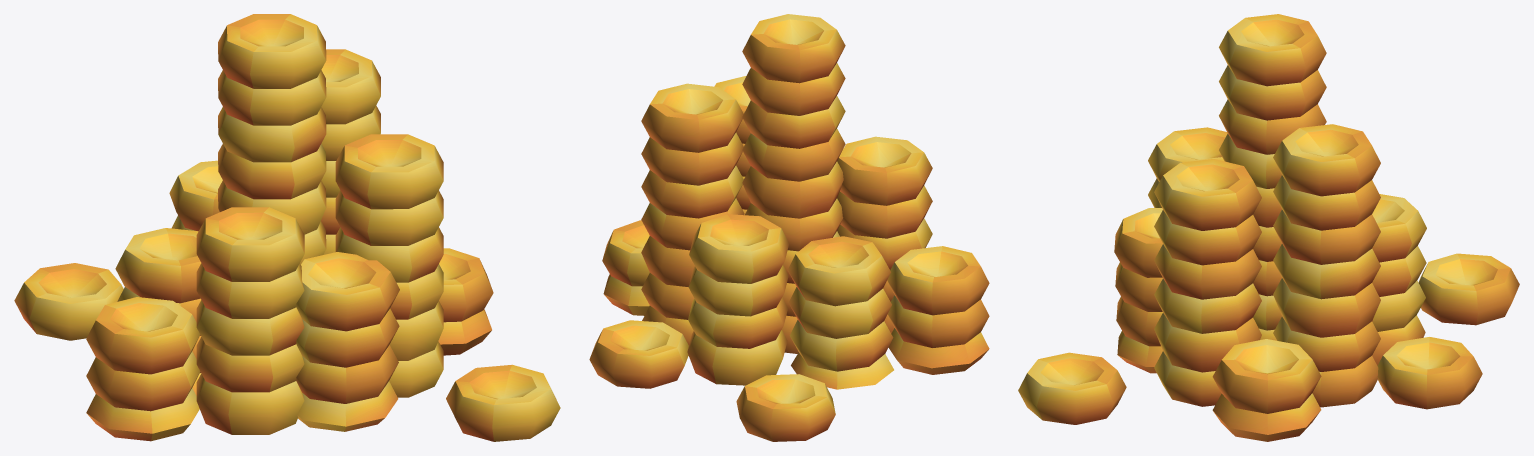
Rendered from coins.glb.
3 renders of one model, left to right at view 1: azimuth 30°, elevation 25°; view 2: azimuth 150°, elevation 25°; view 3: azimuth 270°, elevation 25°, orthographic. The views are drawn at different scales.
Visible parts, largest first — view 1: coin_stack_large; view 2: coin_stack_large; view 3: coin_stack_large.
Boxes of the visible parts, x1,y1,x2,y2 form: coin_stack_large: (14, 14, 560, 441); coin_stack_large: (589, 14, 989, 441); coin_stack_large: (1018, 14, 1519, 441).
Bounding box in the file's own units: 1.44 × 1.16 × 1.66.
1 material, 1 textured.
